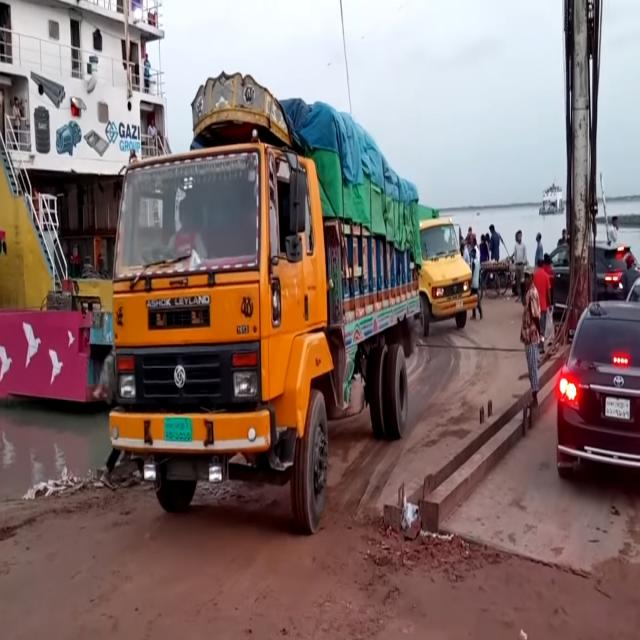car: (551, 284, 640, 489)
truck: (102, 42, 421, 563), (413, 178, 473, 370)
